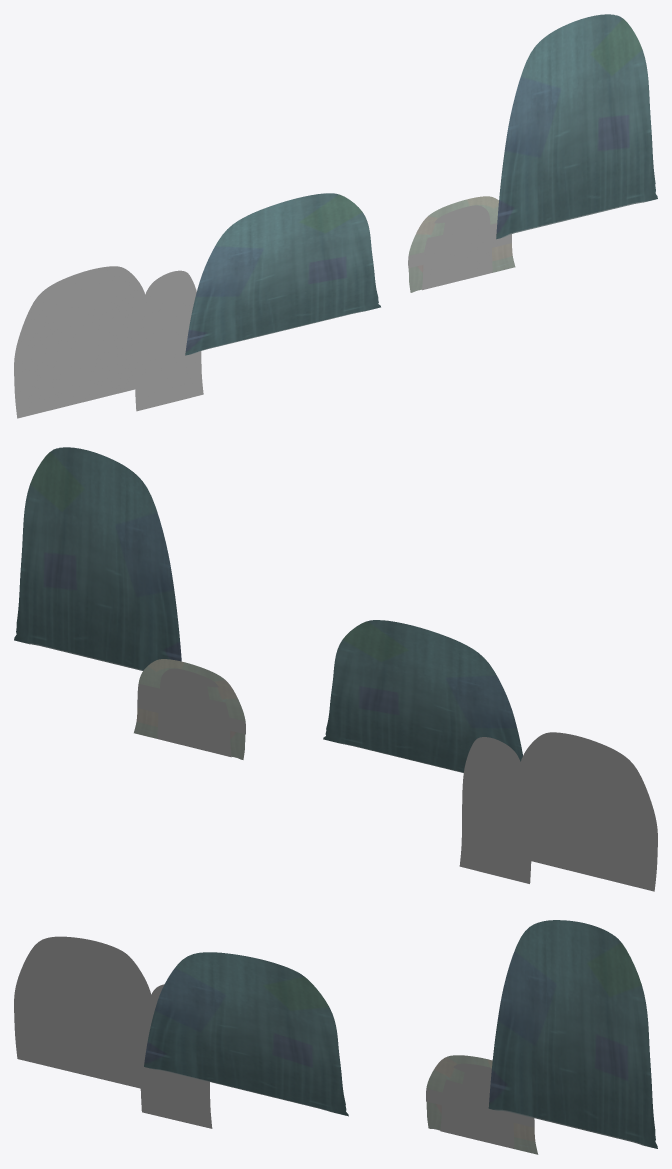
The picture shows the model from 3 angles, top to bottom: view 1: azimuth 30°, elevation 25°; view 2: azimuth 150°, elevation 25°; view 3: azimuth 330°, elevation 25°; orthographic projection. The views are drawn at different scales.
Visible parts, largest first — view 1: ___Level_02_Muntanyes; view 2: ___Level_02_Muntanyes; view 3: ___Level_02_Muntanyes.
Part boxes in pixels (x1,y1,x2,y2): ___Level_02_Muntanyes: [14, 14, 657, 418]; ___Level_02_Muntanyes: [14, 447, 657, 891]; ___Level_02_Muntanyes: [14, 920, 657, 1154].
Size of the model in its own units: 31.46 by 14.22 by 2.03.
